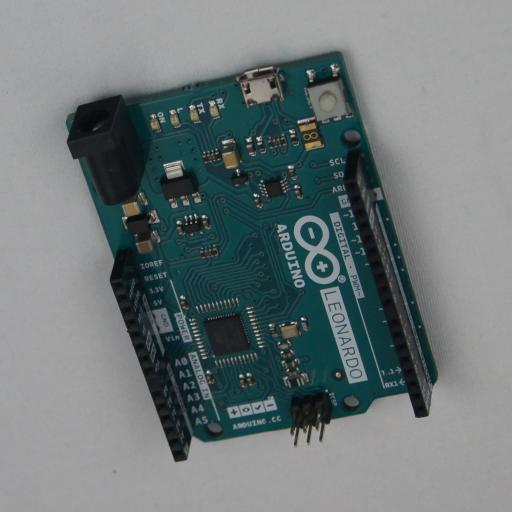Arduino Leonardo: (66, 51, 439, 462)
